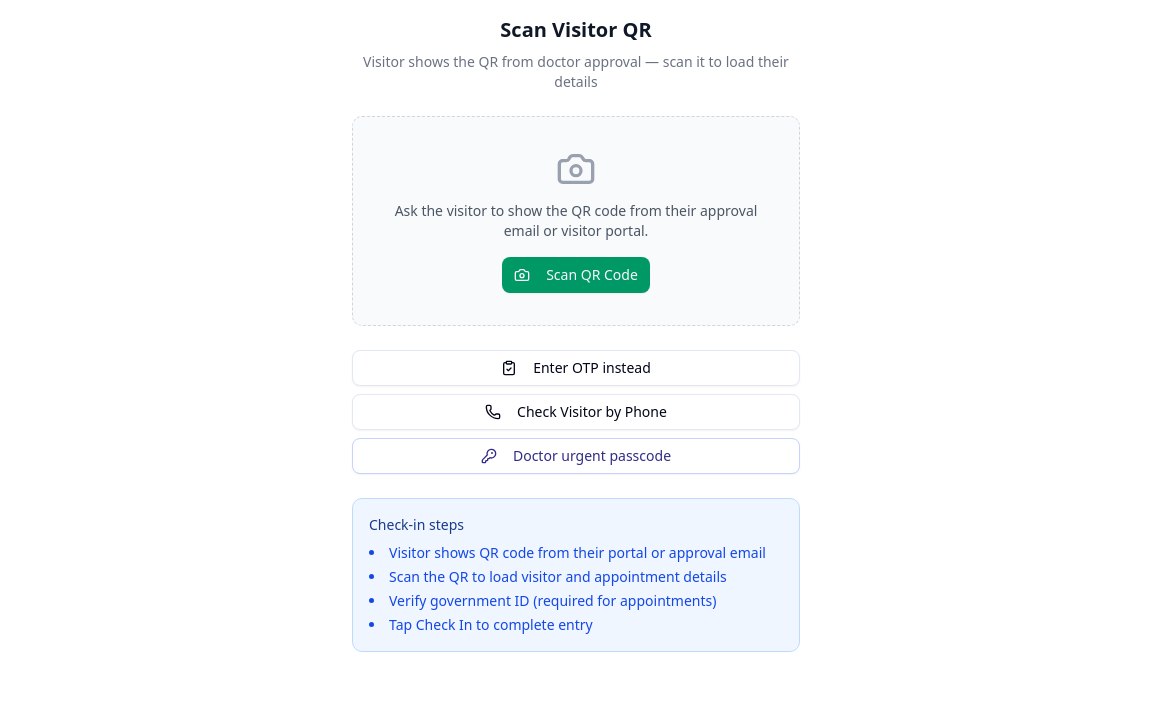
Test: CheckInTab › Phone Lookup Navigation › should navigate to phone lookup view when Check Visitor button is clicked
Step 1. Click the button with test id "phone-lookup-button" → coordinates (576, 412), box [352,394,800,430]
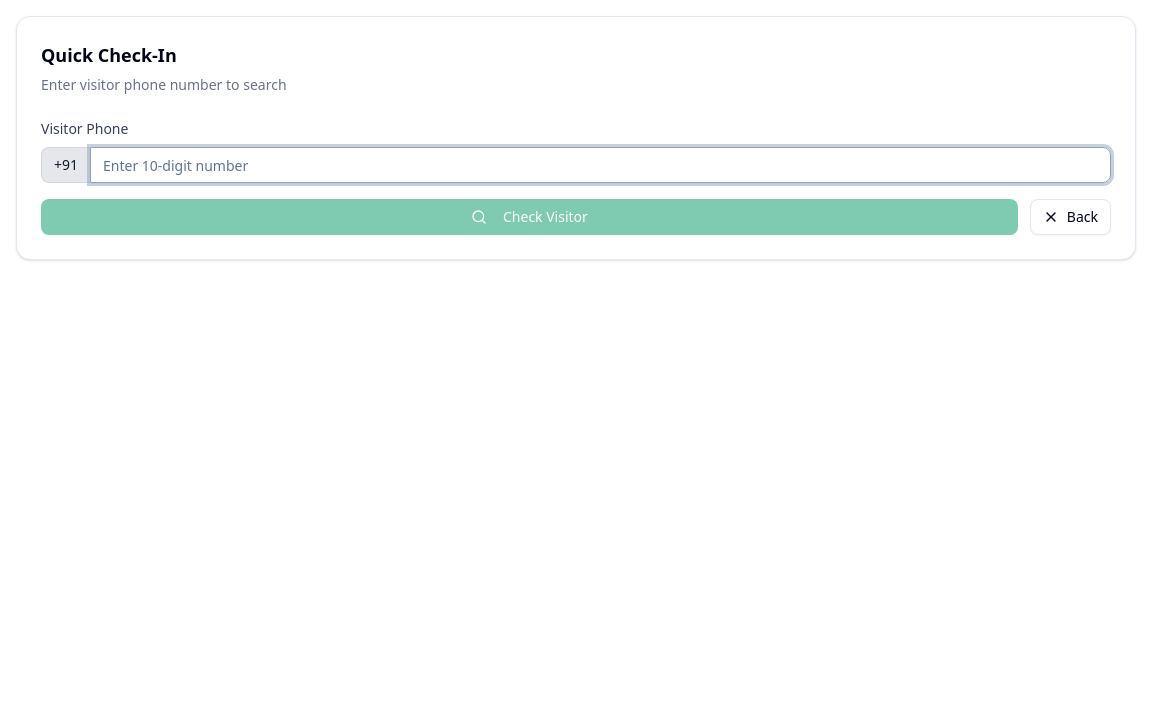
Check: the text "Enter visitor phone number to search" is shown, box [41,75,286,94]
Check: the field with test id "phone-input" is shown, box [90,147,1111,183]
